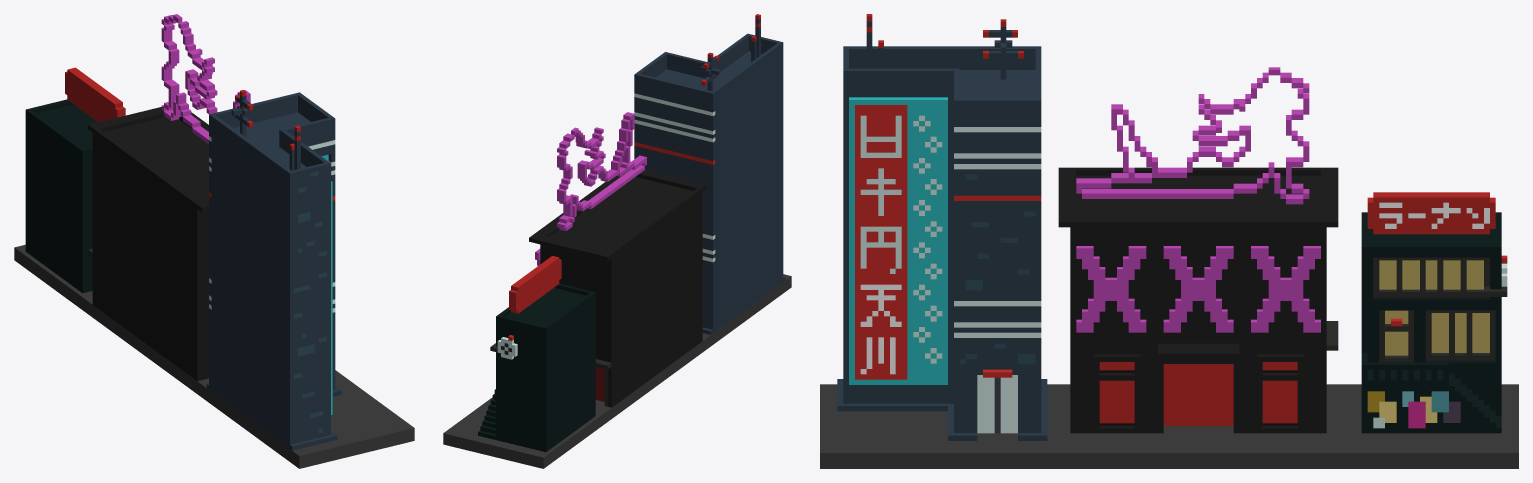
Rendered from SM_Environment_Street14.fbx.
3 renders of one model, left to right at view 1: azimuth 30°, elevation 25°; view 2: azimuth 150°, elevation 25°; view 3: azimuth 270°, elevation 25°, orthographic. The views are drawn at different scales.
Parts seen in each view (by area): view 1: Street14; view 2: Street14; view 3: Street14.
Part boxes in pixels (x1=…): Street14: x1=14, y1=14, x2=414, y2=468; Street14: x1=443, y1=14, x2=791, y2=468; Street14: x1=820, y1=14, x2=1518, y2=468.
Bounding box in the file's own units: 560 × 1500 × 2400.
Materials: 5 (1 with a texture image).
